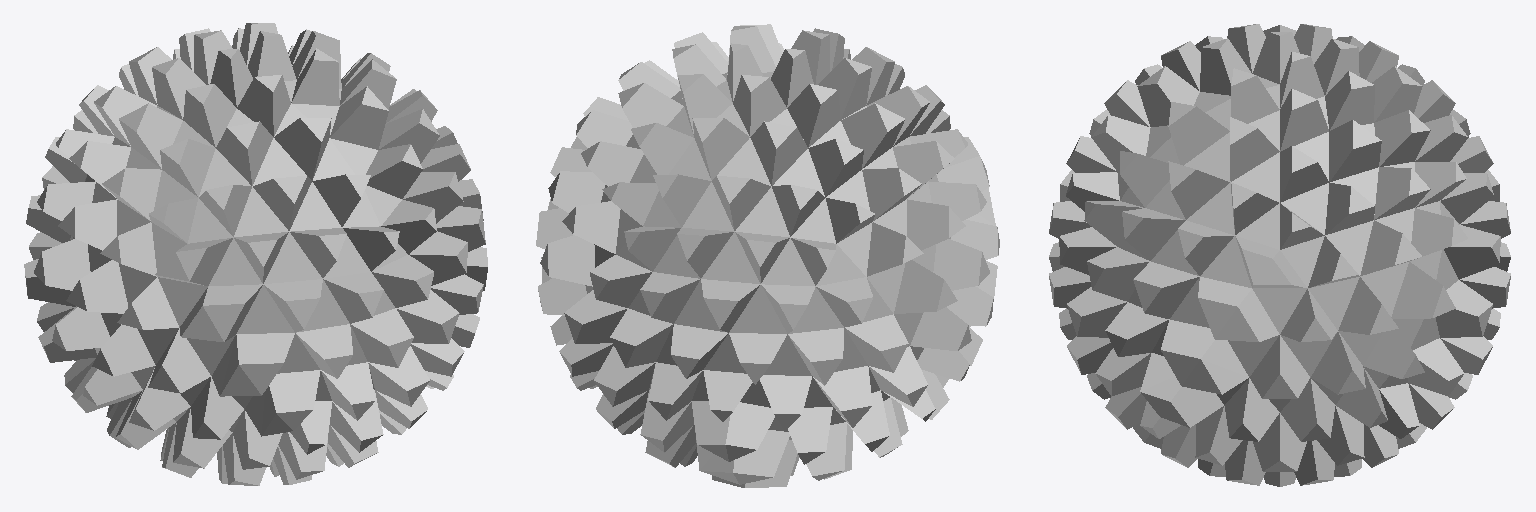
Rendered from ico1.obj.
3 renders of one model, left to right at view 1: azimuth 30°, elevation 25°; view 2: azimuth 150°, elevation 25°; view 3: azimuth 270°, elevation 25°, orthographic.
Parts seen in each view (by area): view 1: Icosphere.001; view 2: Icosphere.001; view 3: Icosphere.001.
Boxes of the visible parts, x1,y1,x2,y2 form: Icosphere.001: [24, 23, 487, 485]; Icosphere.001: [536, 24, 999, 487]; Icosphere.001: [1049, 24, 1510, 486].
Size of the model in its own units: 3.37 by 3.4 by 3.37.